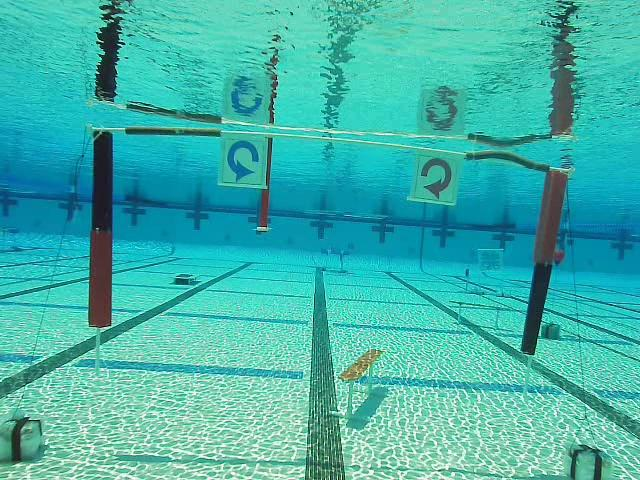dropper: (171, 271, 198, 286)
gate: (94, 124, 572, 378)
gate_blue: (219, 134, 267, 187)
gate_leg_l: (86, 126, 113, 326)
gate_leg_r: (521, 170, 571, 354)
gate_red: (412, 154, 461, 205)
table: (320, 247, 350, 274)
torpedo: (479, 250, 503, 272)
